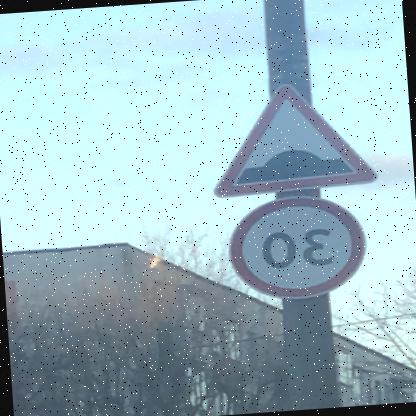speedlimit: (228, 190, 372, 302)
